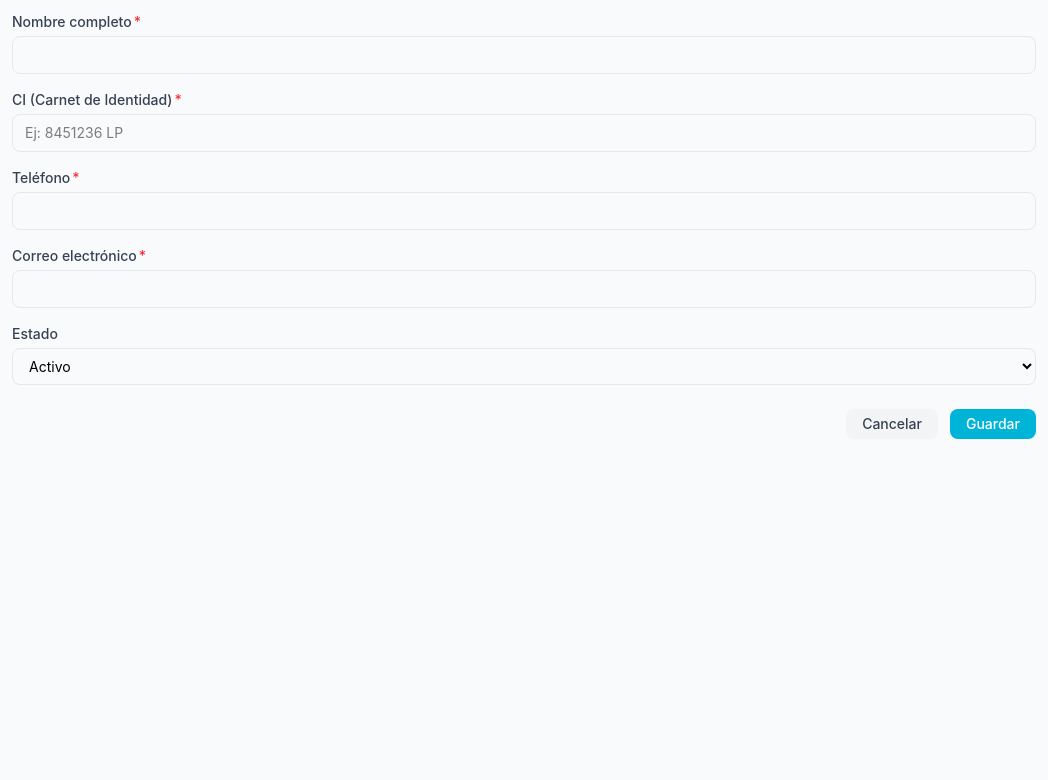
Scenario: PatientForm › muestra error de validación si se intenta guardar sin nombre
This screenshot has width=1048, height=780.
Click the button "Guardar" at [993, 424], box [950, 409, 1036, 439]
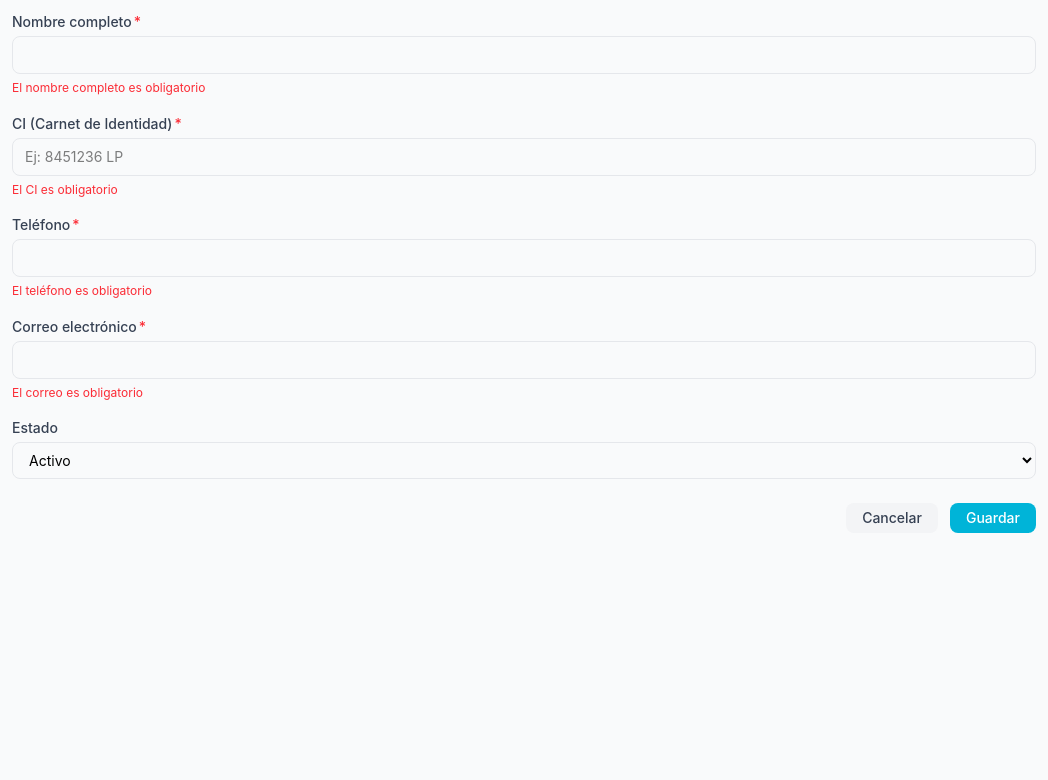
Check: the text "El nombre completo es obligatorio" is shown, box [12, 80, 205, 95]
